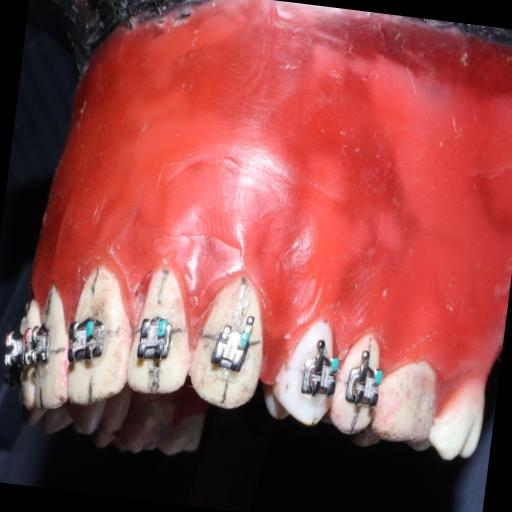incorrect_brace: (124, 272, 202, 398), (210, 320, 252, 374), (134, 313, 176, 362)
